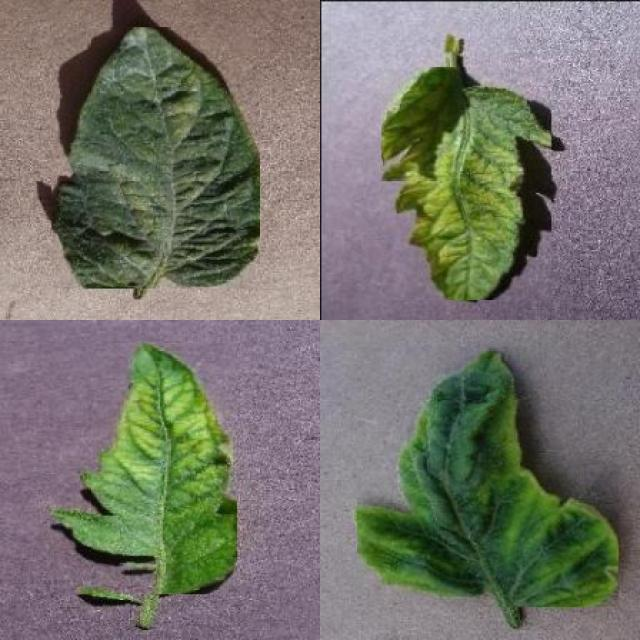Mosaic Virus: (50, 343, 237, 594), (382, 67, 552, 300)
Spider Mites: (52, 27, 260, 289)
Yellow Leaf Curl Virus: (357, 347, 619, 607)
